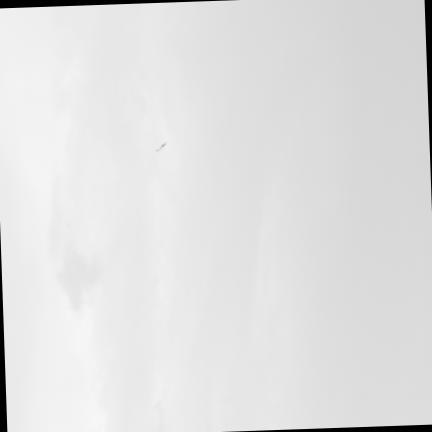Shahed: (156, 141, 167, 150)
